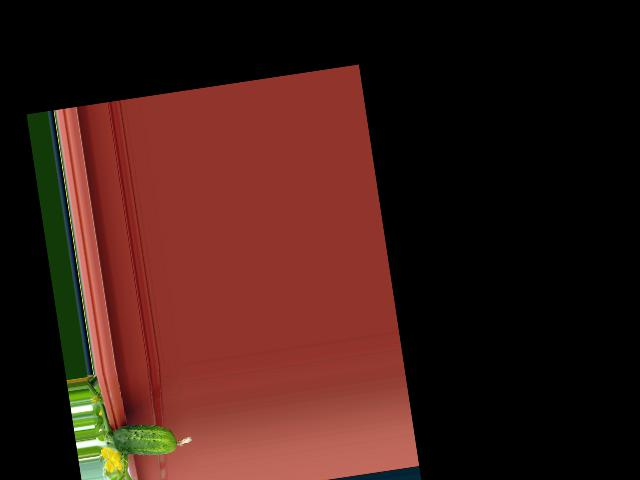cucumber: (110, 416, 193, 462)
